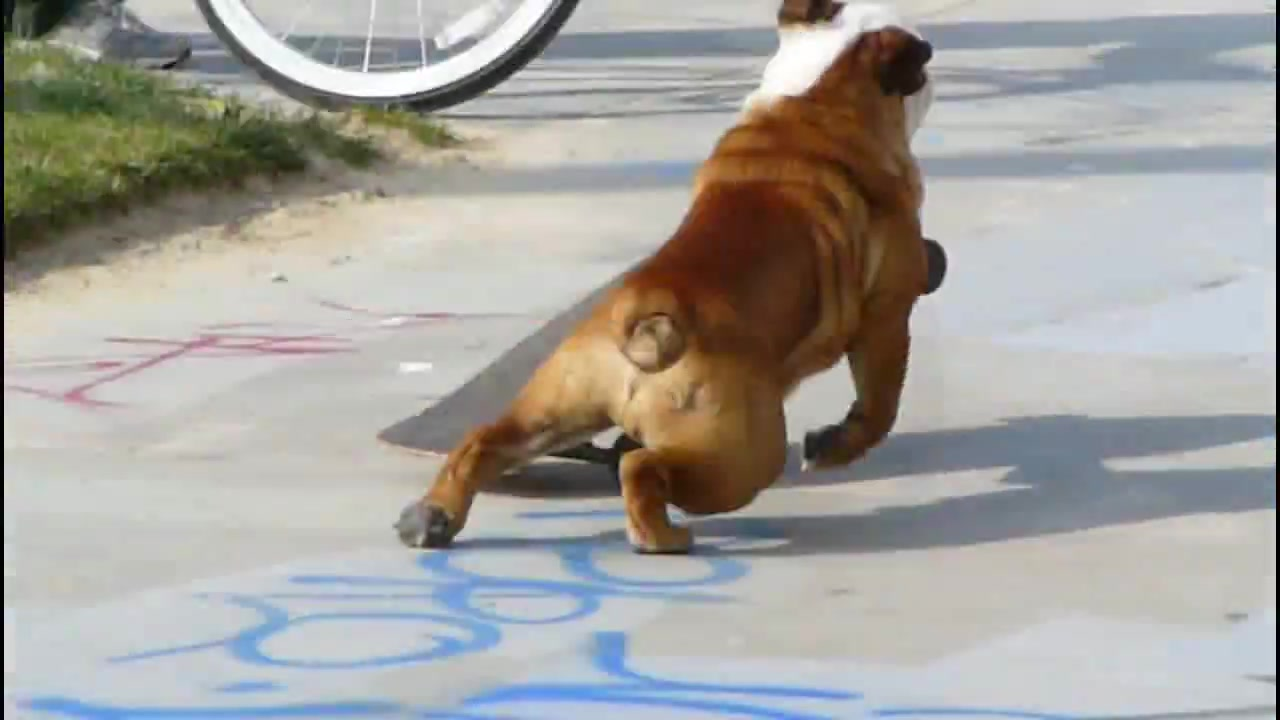dog: (393, 2, 950, 554)
